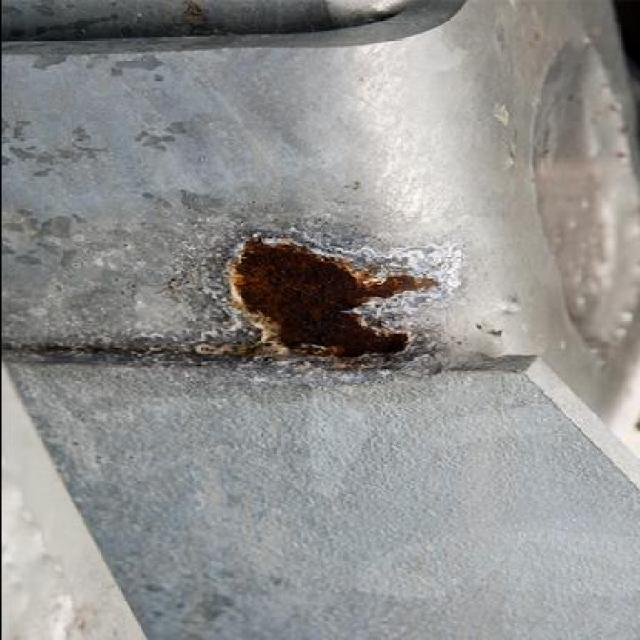Corrosion: (218, 235, 434, 370)
